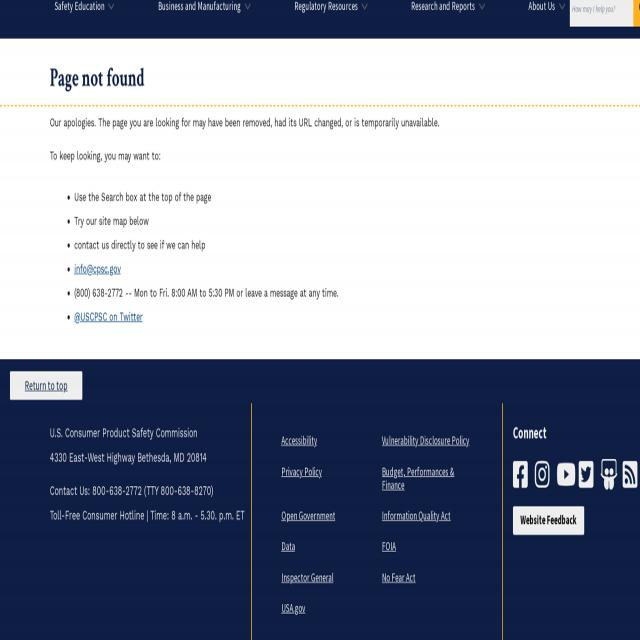button: (153, 0, 251, 28), (406, 0, 486, 28), (289, 0, 368, 28), (9, 371, 82, 400), (513, 506, 584, 535), (50, 0, 114, 28), (524, 0, 565, 28), (556, 459, 576, 490), (600, 459, 618, 490), (512, 459, 528, 490), (534, 459, 550, 490), (578, 459, 594, 490), (624, 462, 636, 488), (634, 0, 640, 26)
field: (569, 2, 634, 25)
